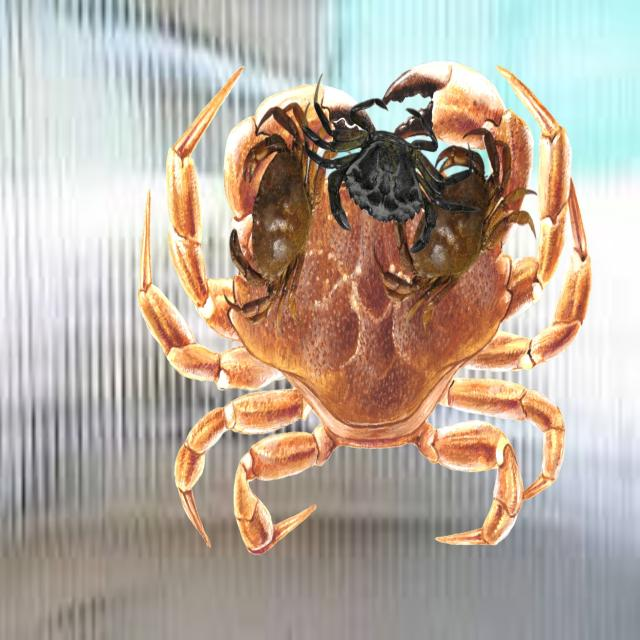European_Green_Crab: (287, 69, 493, 278)
